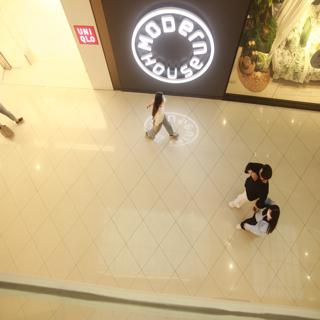person: (224, 157, 275, 208), (139, 85, 177, 143), (230, 204, 282, 245)
